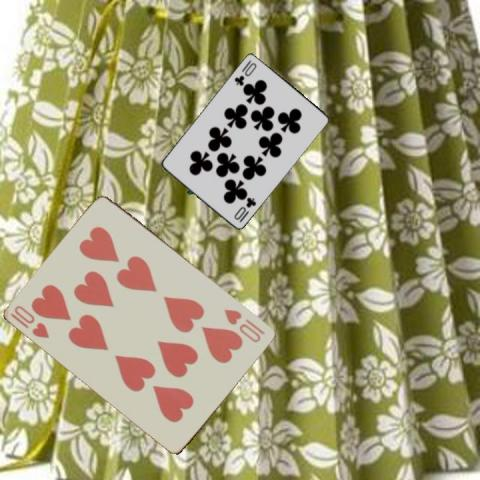10c: (231, 56, 258, 86), (231, 194, 257, 223)
10h: (221, 306, 267, 344), (8, 302, 52, 340)
